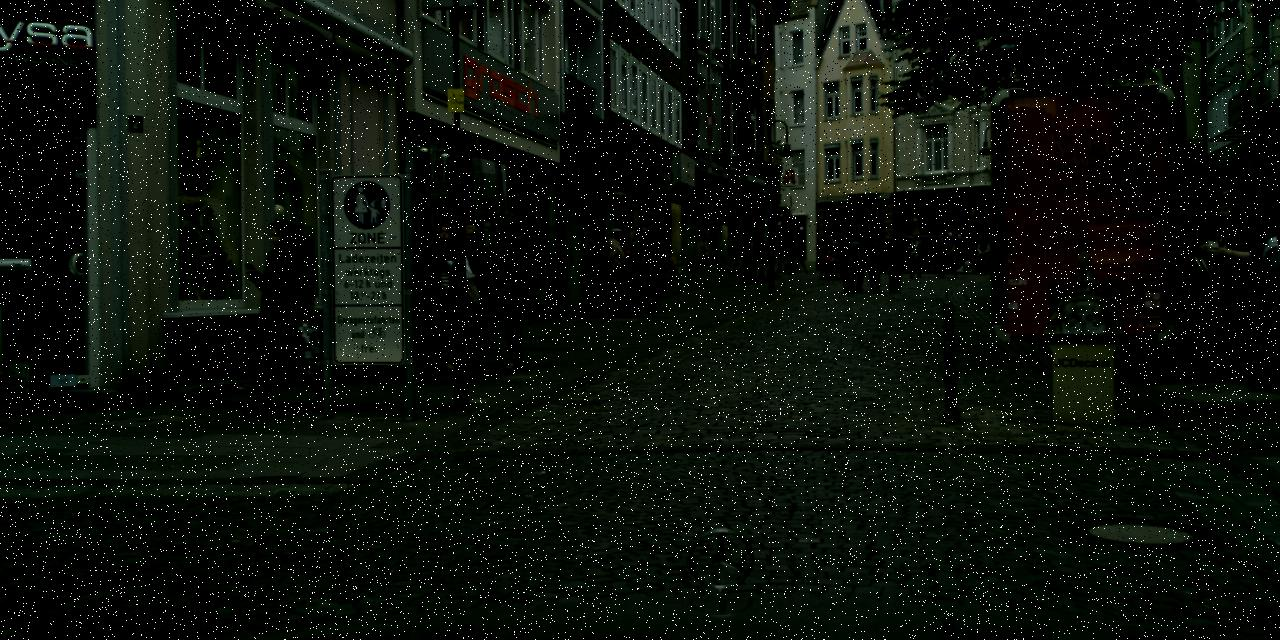ped: (248, 218, 326, 411), (1192, 193, 1266, 376), (331, 204, 402, 378), (478, 210, 542, 368), (416, 221, 476, 368), (446, 224, 499, 355), (631, 226, 666, 311), (599, 228, 633, 313), (626, 230, 660, 314), (1254, 218, 1279, 332), (614, 228, 647, 311), (882, 231, 906, 290), (844, 234, 866, 290), (863, 236, 885, 292), (837, 236, 859, 292), (938, 232, 956, 277), (931, 234, 947, 276), (896, 232, 912, 272), (907, 236, 923, 276), (976, 237, 990, 274), (904, 235, 918, 271), (828, 242, 840, 272), (821, 250, 832, 278)
